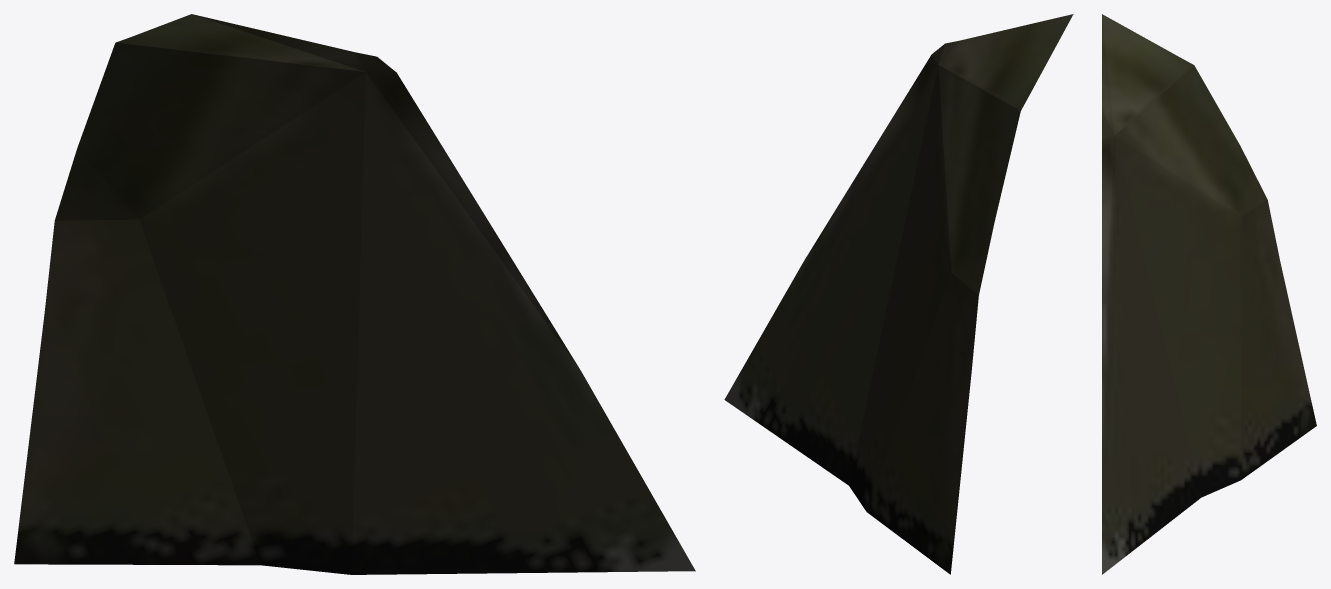
3 views of the same model, side by side, from view 1: azimuth 30°, elevation 25°; view 2: azimuth 150°, elevation 25°; view 3: azimuth 270°, elevation 25° (orthographic). The views are drawn at different scales.
Size of the model in its own units: 0.3584 by 0.462 by 0.2184.
1 material, 1 textured.
